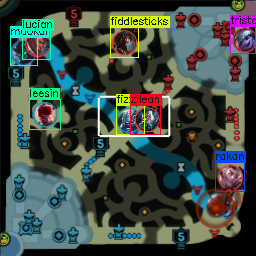ezreal: (212, 193, 237, 216)
fiddlesticks: (111, 30, 138, 56)
fizz: (118, 108, 142, 133)
leesin: (31, 101, 59, 127)
lucian: (25, 31, 51, 57)
maokai: (10, 40, 36, 66)
rakan: (216, 165, 243, 191)
sett: (206, 194, 231, 217)
tristana: (231, 28, 256, 53)
zilean: (135, 107, 160, 131)
